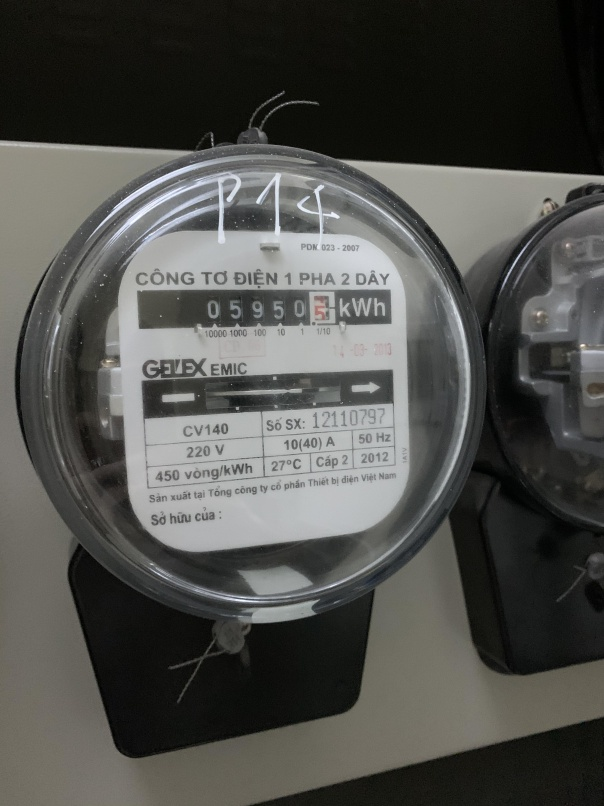counter: (138, 290, 395, 324)
electricity_meter: (21, 145, 487, 623)
